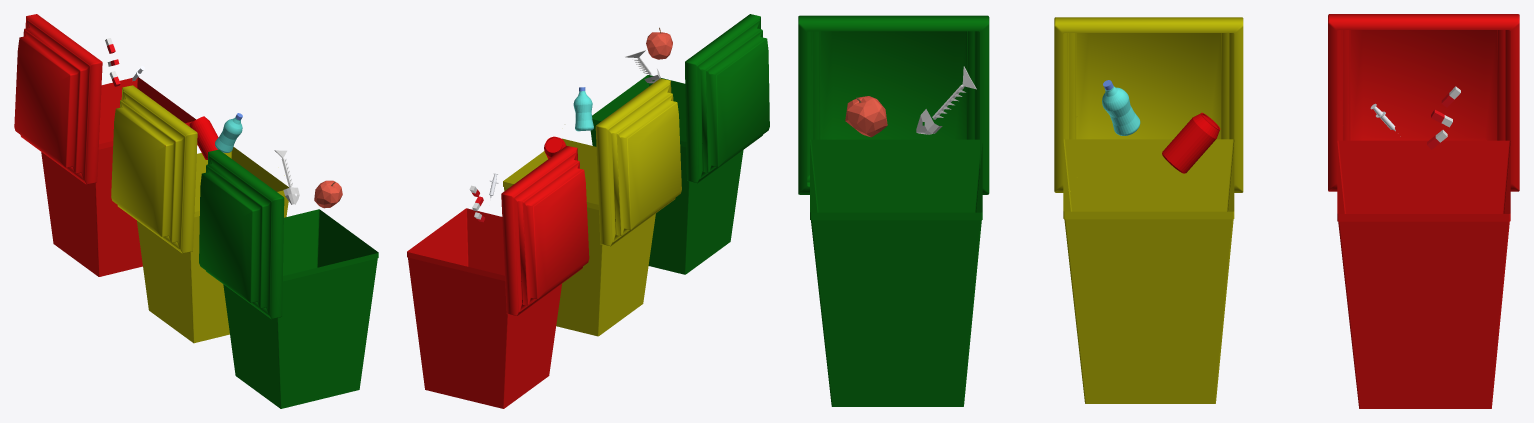
File: sampah[1].glb
3 views of the same model, side by side, from view 1: azimuth 30°, elevation 25°; view 2: azimuth 150°, elevation 25°; view 3: azimuth 270°, elevation 25° (orthographic). The views are drawn at different scales.
Parts seen in each view (by area): view 1: Plane.002, Plane.005, Plane.003, Plane.004, Plane.001, Plane, Circle, Circle.001, Low Poly Red Apple, Low poly fish bone; view 2: Plane.001, Plane.005, Plane.003, Plane.004, Plane, Plane.002, Circle.001, Low Poly Red Apple, Circle; view 3: Plane.001, Plane.002, Plane, Plane.005, Plane.003, Plane.004, Circle, Low Poly Red Apple, Circle.001, Low poly fish bone.
Boxes of the visible parts, left/top/right/bottom form: Plane.002: left=223, top=209, right=378, bottom=408; Plane.005: left=14, top=14, right=102, bottom=184; Plane.003: left=199, top=149, right=284, bottom=319; Plane.004: left=111, top=85, right=197, bottom=253; Plane.001: left=41, top=77, right=195, bottom=276; Plane: left=137, top=147, right=288, bottom=343; Circle: left=189, top=116, right=218, bottom=159; Circle.001: left=215, top=113, right=242, bottom=152; Low Poly Red Apple: left=314, top=180, right=342, bottom=208; Low poly fish bone: left=274, top=150, right=299, bottom=204; Plane.001: left=407, top=208, right=561, bottom=408; Plane.005: left=501, top=146, right=589, bottom=315; Plane.003: left=685, top=14, right=769, bottom=183; Plane.004: left=595, top=78, right=681, bottom=246; Plane: left=503, top=138, right=655, bottom=336; Plane.002: left=590, top=75, right=743, bottom=274; Circle.001: left=573, top=87, right=593, bottom=131; Low Poly Red Apple: left=646, top=27, right=672, bottom=59; Circle: left=544, top=136, right=566, bottom=158; Plane.001: left=1337, top=140, right=1510, bottom=408; Plane.002: left=810, top=139, right=982, bottom=406; Plane: left=1063, top=139, right=1234, bottom=403; Plane.005: left=1328, top=14, right=1519, bottom=191; Plane.003: left=798, top=15, right=989, bottom=194; Plane.004: left=1054, top=17, right=1243, bottom=192; Circle: left=1162, top=112, right=1220, bottom=173; Low Poly Red Apple: left=845, top=96, right=887, bottom=137; Circle.001: left=1102, top=80, right=1140, bottom=135; Low poly fish bone: left=916, top=66, right=976, bottom=134.
Size of the model in its own units: 1.58 by 2.57 by 5.14.
10 materials, 1 textured.
